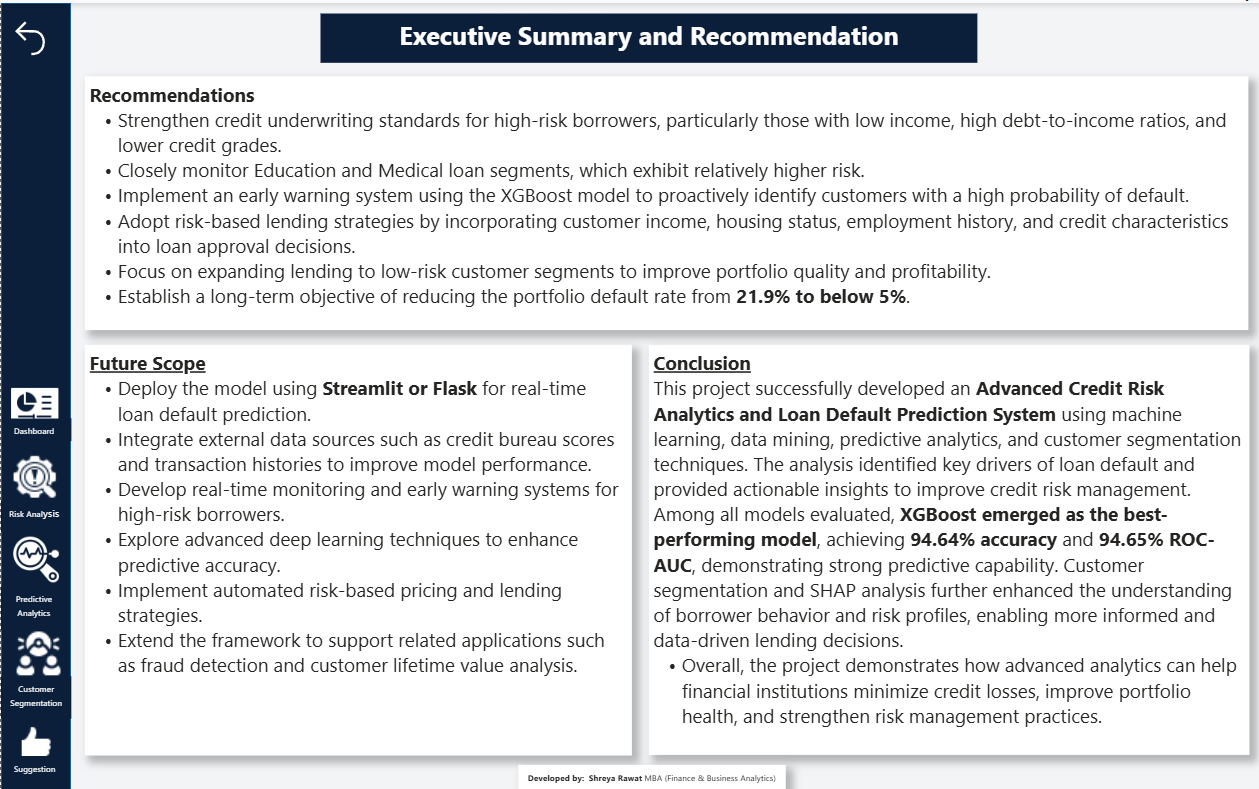

The dashboard page shown, as its layout file describes it:
{"tool":"powerbi","page":{"name":"Executive Summary and Recommendation","canvas":[1600,1000],"ordinal":5},"visuals":[{"type":"textbox","box":[406,13.3,834.8,62.9],"z":0},{"type":"shape","box":[0,0,88.8,1000.7],"z":1000},{"type":"textbox","box":[106.6,92.8,1478.3,321.7],"z":2000},{"type":"textbox","box":[823.4,434.6,762.4,520.3],"z":3000},{"type":"textbox","box":[106.6,434.2,694.7,521.1],"z":4000},{"type":"textbox","box":[657.6,968.3,339.3,32.4],"z":5000},{"type":"actionButton","box":[9.5,17.2,80.1,55.3],"z":6000},{"type":"image","box":[9.5,480.3,66.7,62.9],"z":7000},{"type":"image","box":[9.5,571.8,66.7,61],"z":8000},{"type":"image","box":[5.7,672.8,78.1,68.6],"z":9000},{"type":"image","box":[5.7,916.8,78.1,49.6],"z":10000},{"type":"image","box":[11.4,796.7,72.4,59.1],"z":11000},{"type":"textbox","box":[11.4,528,78.1,28.6],"z":12000},{"type":"textbox","box":[0,633.6,84.9,39.5],"z":13000},{"type":"textbox","box":[0,741.4,83.9,55.3],"z":14000},{"type":"textbox","box":[0,855.8,89.6,53.4],"z":15000},{"type":"textbox","box":[3.8,956.2,78.1,43.8],"z":16000}]}

Visuals, with their boxes on the page's 1600x1000 design canvas (x1, y1, x2, y2). These are canvas units, not pixel positions in the 1259x789 screenshot, which may show the page scaled, cropped or inside an application window:
textbox: 406/13/1241/76
shape: 0/0/89/1001
textbox: 107/93/1585/414
textbox: 823/435/1586/955
textbox: 107/434/801/955
textbox: 658/968/997/1001
actionButton: 10/17/90/72
image: 10/480/76/543
image: 10/572/76/633
image: 6/673/84/741
image: 6/917/84/966
image: 11/797/84/856
textbox: 11/528/90/557
textbox: 0/634/85/673
textbox: 0/741/84/797
textbox: 0/856/90/909
textbox: 4/956/82/1000
